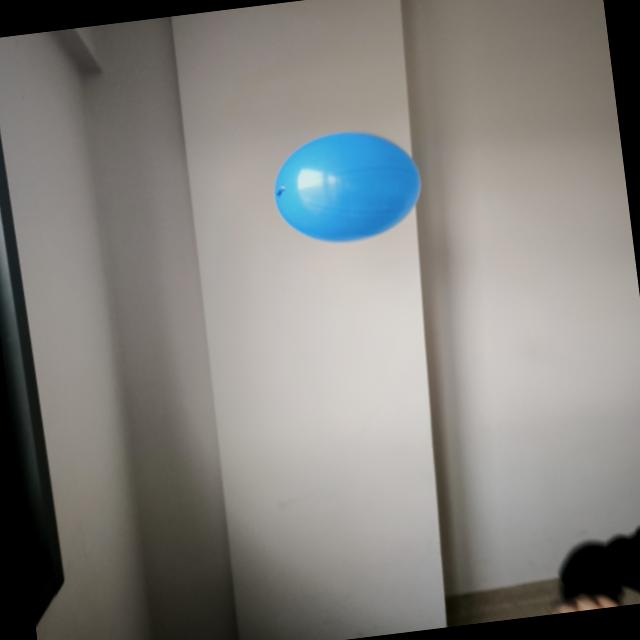balloon: (274, 132, 420, 241)
